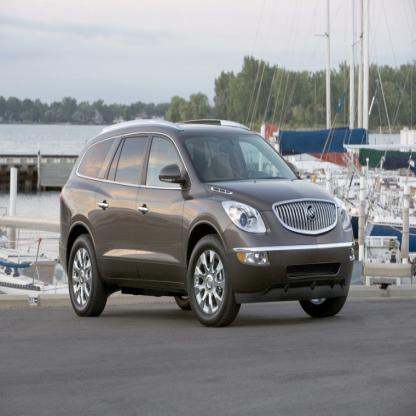Vehicle: (57, 119, 358, 330)
